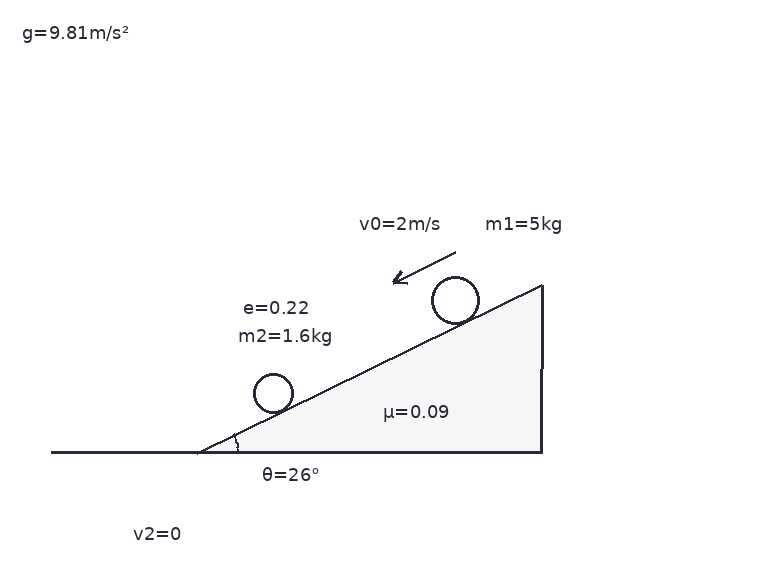ball: (429, 274, 481, 326), (251, 371, 295, 415)
ramp: (196, 282, 544, 454)
